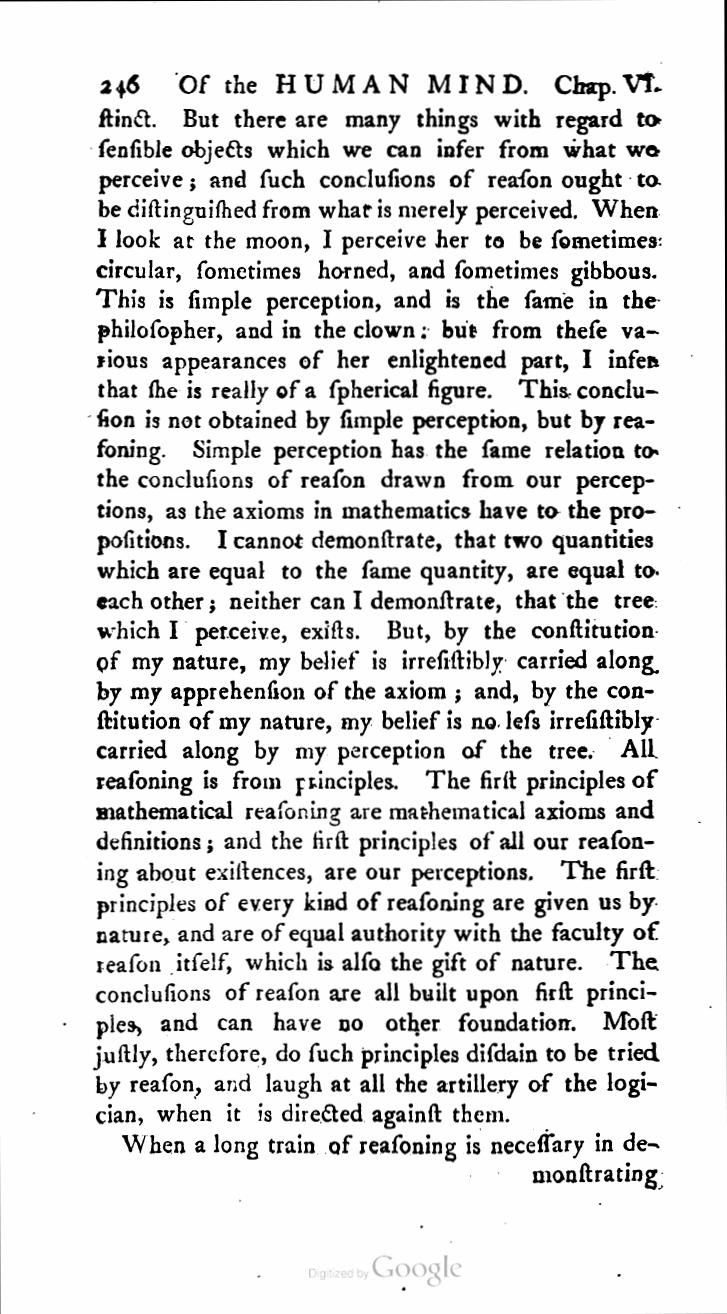bottom_p: (92, 106, 662, 1131)
catchword: (529, 1162, 663, 1193)
header: (176, 69, 664, 100)
page_num: (95, 69, 144, 102)
top_p: (121, 1132, 662, 1163)
